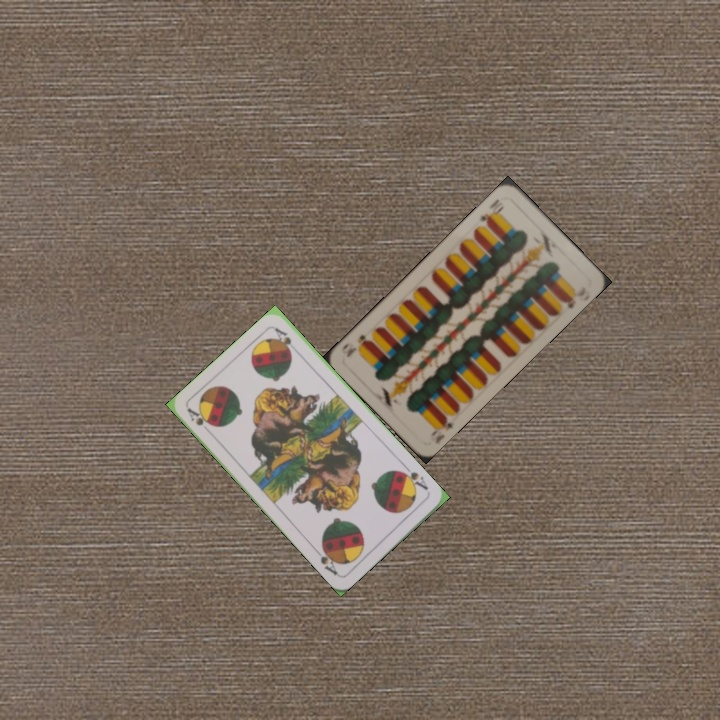E10: (426, 412, 459, 445), (475, 195, 507, 228)
SA: (395, 462, 431, 493), (183, 404, 216, 437)
